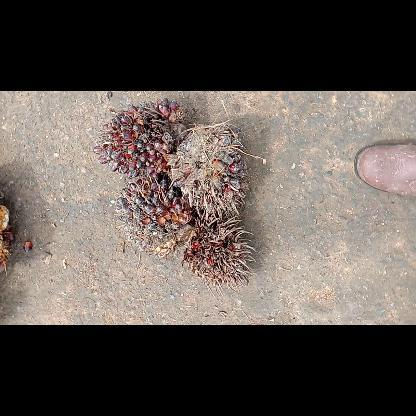TBS abnormal: (168, 121, 248, 219), (94, 98, 188, 178), (114, 178, 194, 258), (183, 216, 255, 296)
